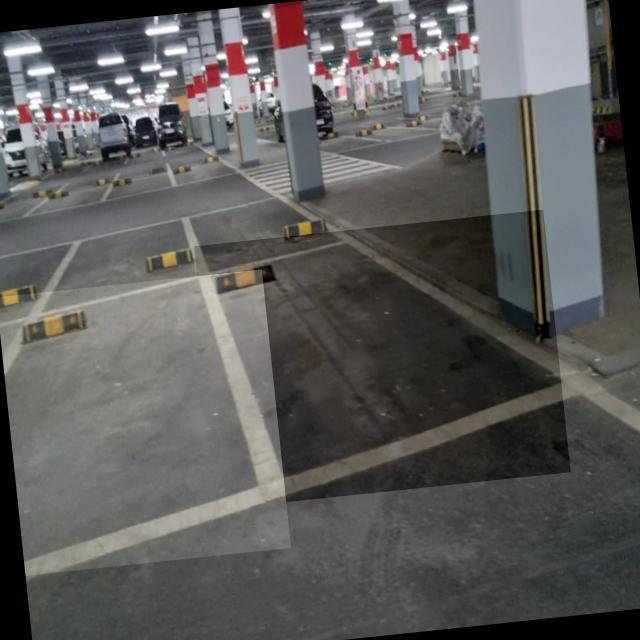empty: (194, 209, 570, 508), (0, 269, 290, 575)
